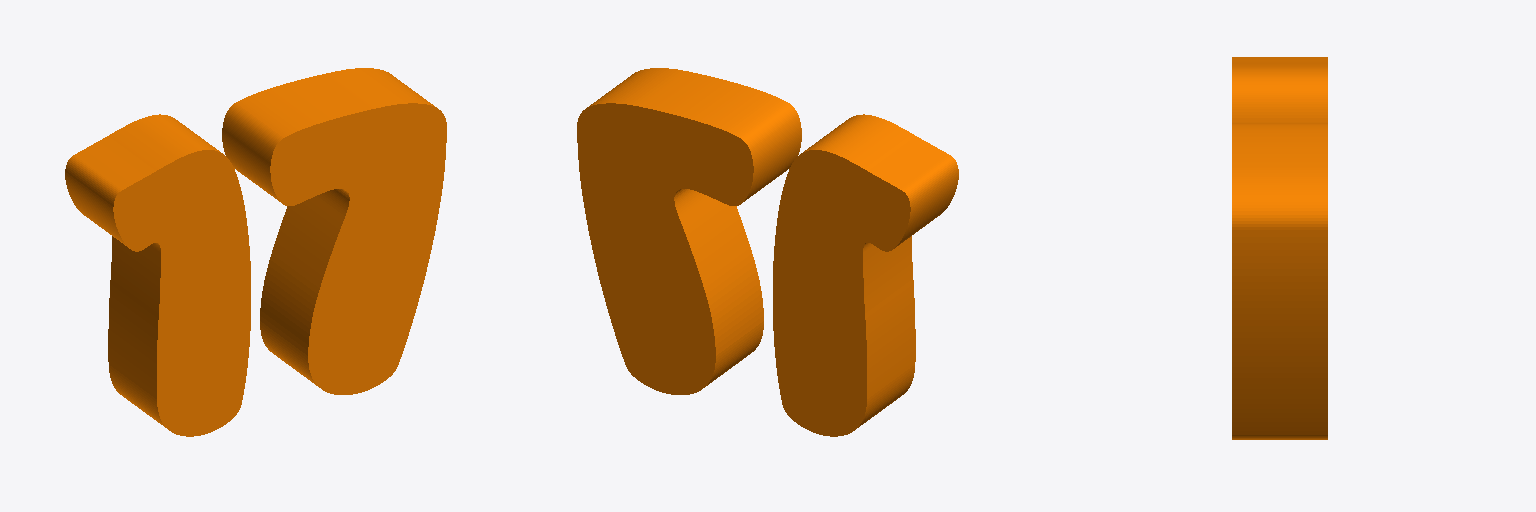
File: Number17.obj
The picture shows the model from 3 angles: view 1: azimuth 30°, elevation 25°; view 2: azimuth 150°, elevation 25°; view 3: azimuth 270°, elevation 25°; orthographic projection.
Visible parts, largest first — view 1: Text; view 2: Text; view 3: Text.
Boxes of the visible parts, <box> form: Text: <box>65,68,446,436</box>; Text: <box>577,68,958,436</box>; Text: <box>1232,57,1327,439</box>.
Bounding box in the file's own units: 0.7174 × 0.5856 × 0.18.